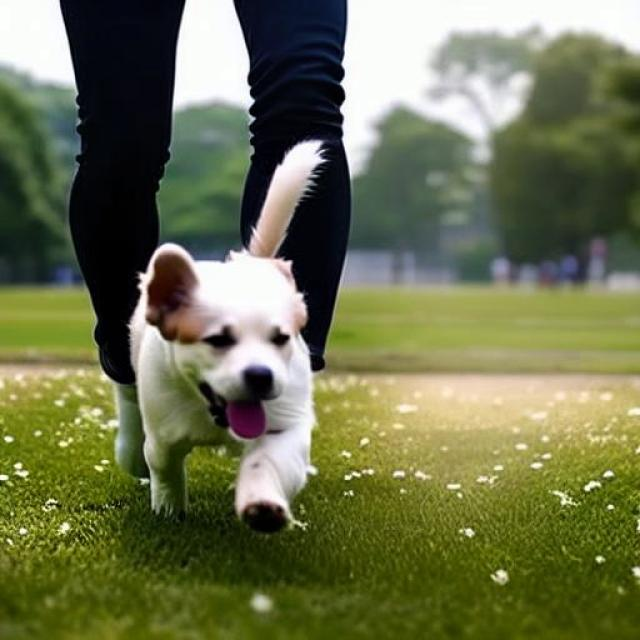Unleashed_Dog: (125, 0, 333, 535)
